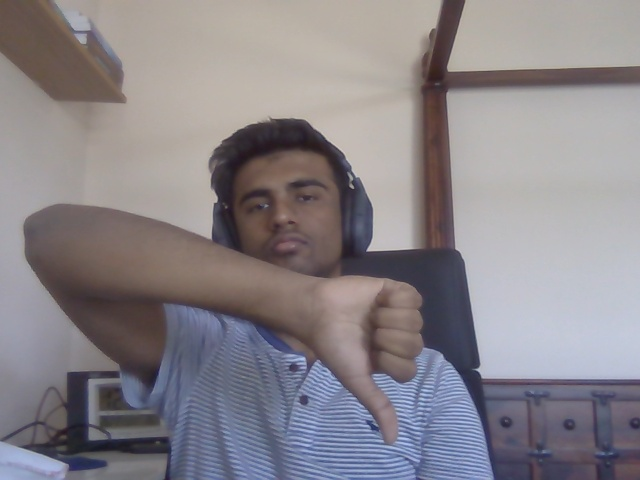No: (313, 274, 427, 445)
